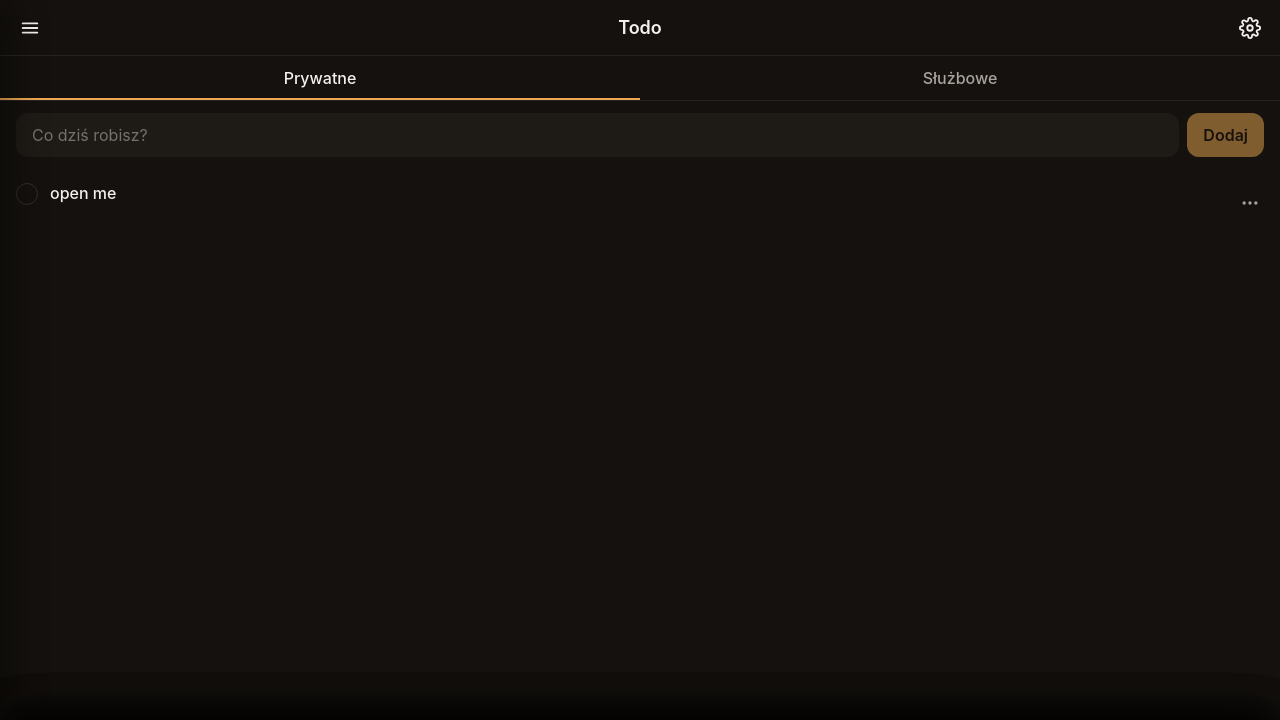
MainList › overflow menu, edit, and delete › move between categories › clicking Przenieś opens the move sheet listing every category
This screenshot has width=1280, height=720.
Click the button named "Więcej akcji". click: (1250,203)
box: [1228,181,1272,225]
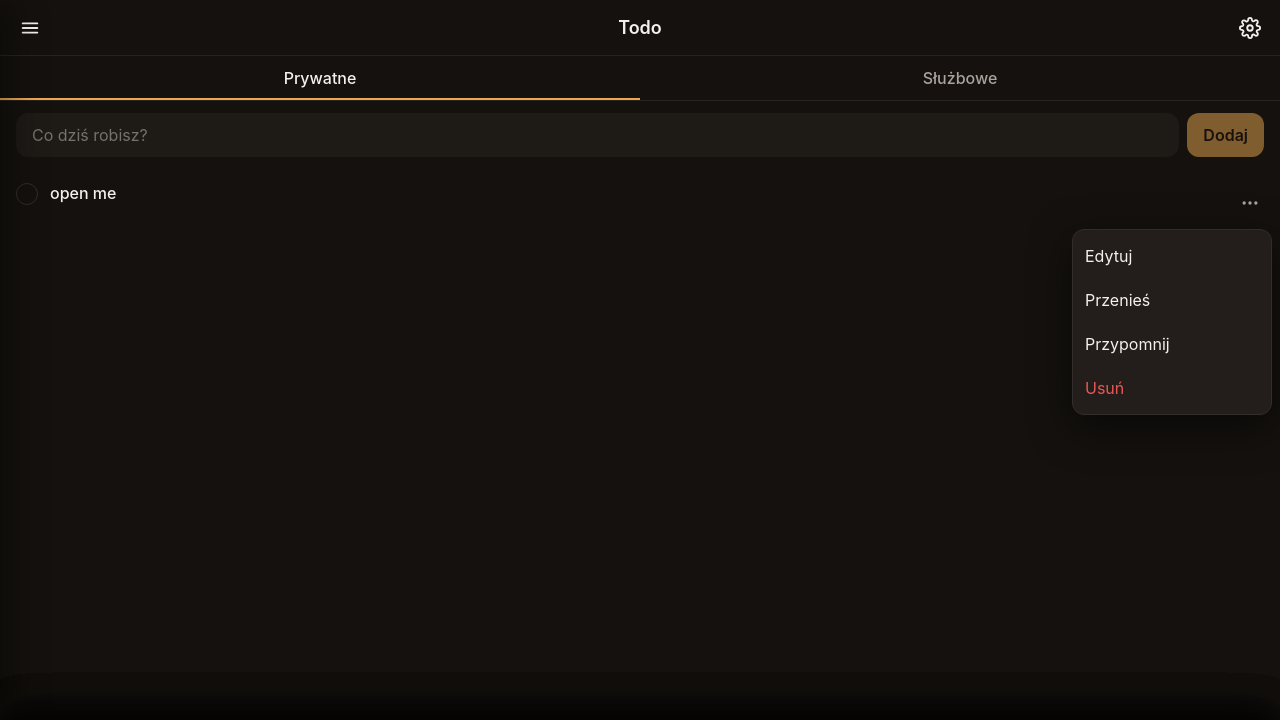
Click the menu item "Przenieś". click: (1172,300)
box: [1073,278,1271,322]
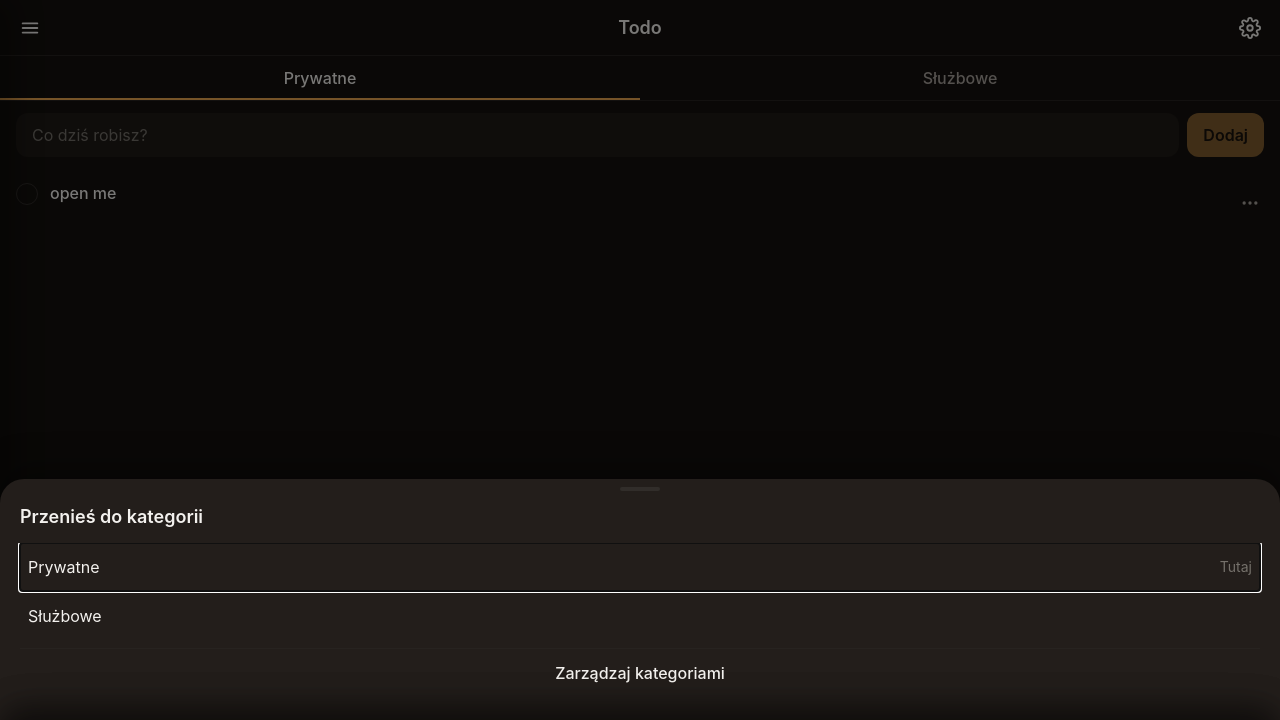
Now the dialog shows "Prywatne", box [20,543,1260,591]
Now the dialog shows "Służbowe", box [20,592,1260,640]
